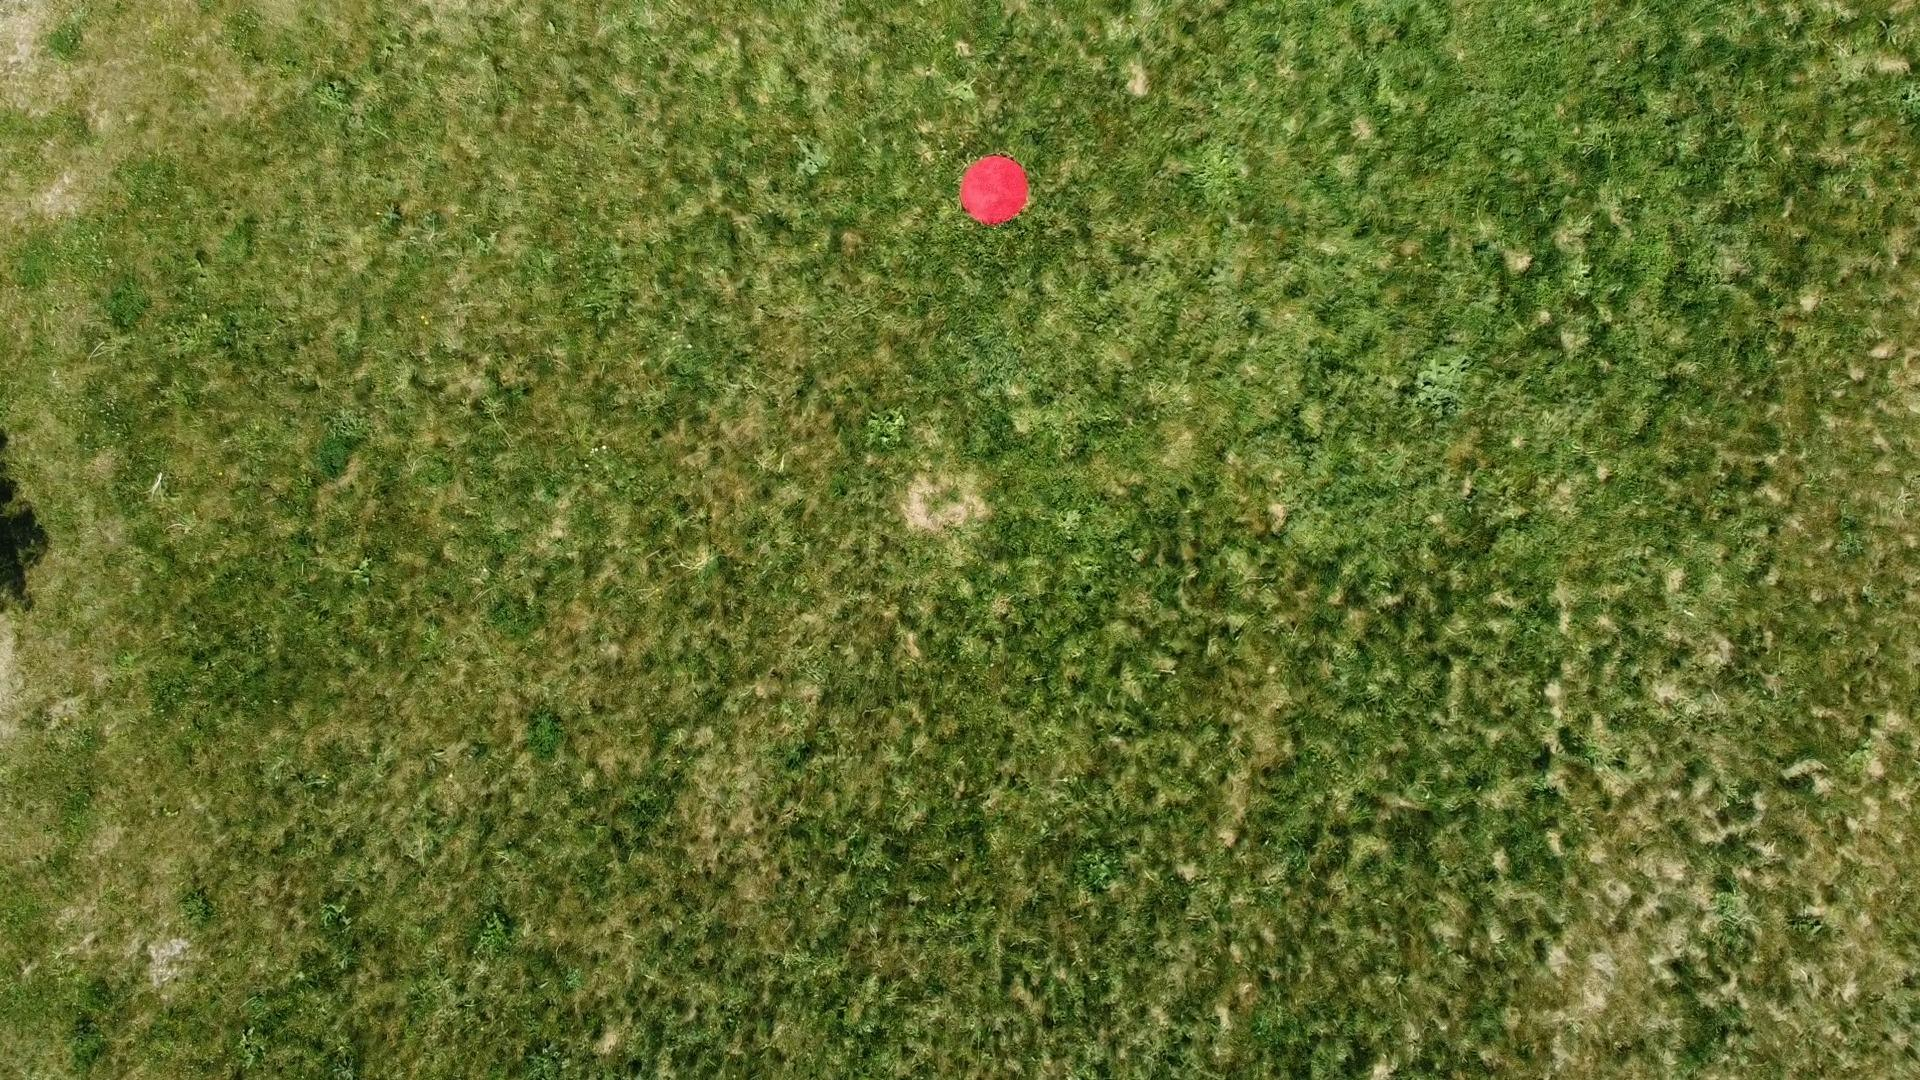Red: (959, 152, 1033, 227)
